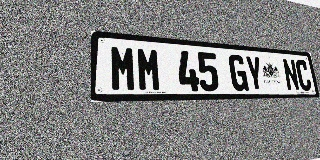4: (176, 50, 200, 91)
5: (197, 52, 220, 91)
C: (295, 59, 312, 91)
G: (228, 54, 249, 91)
M: (110, 45, 137, 92), (136, 47, 162, 91)
N: (282, 58, 300, 91)
Y: (244, 55, 265, 91)
